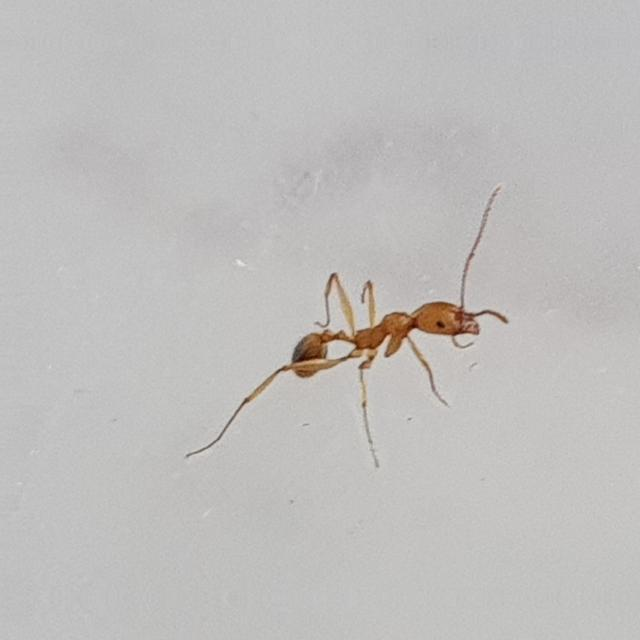Apheanogaster: (228, 225, 544, 438)
